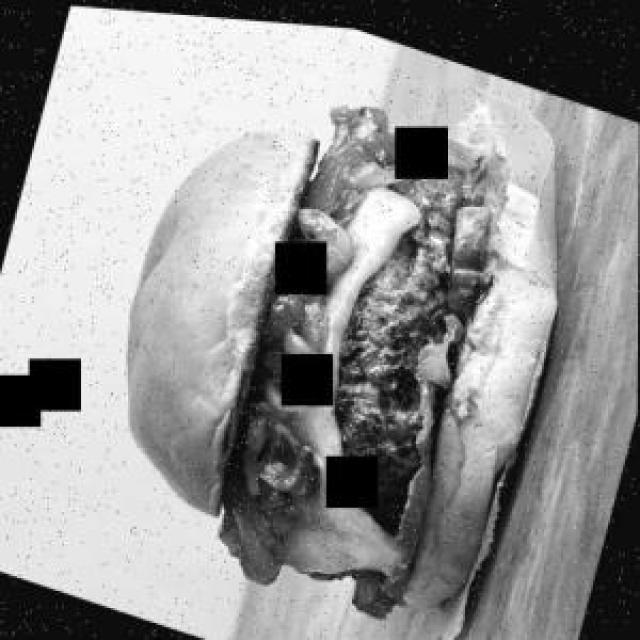Burger: (125, 100, 558, 617)
